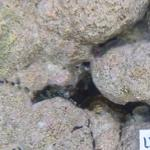dead: (1, 4, 123, 111)
